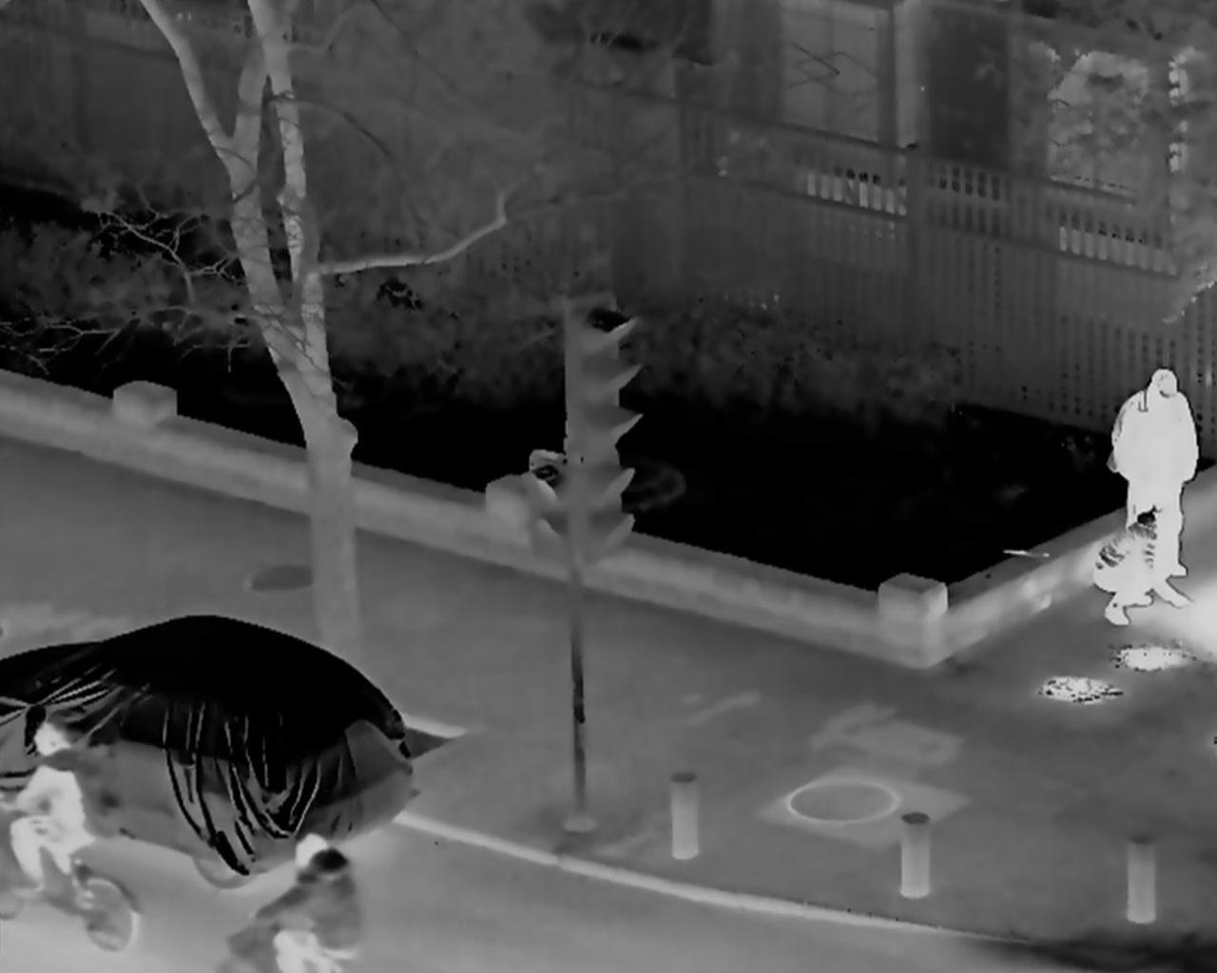person: (10, 720, 115, 910), (1113, 369, 1201, 580), (244, 829, 363, 973), (1091, 508, 1192, 626)
